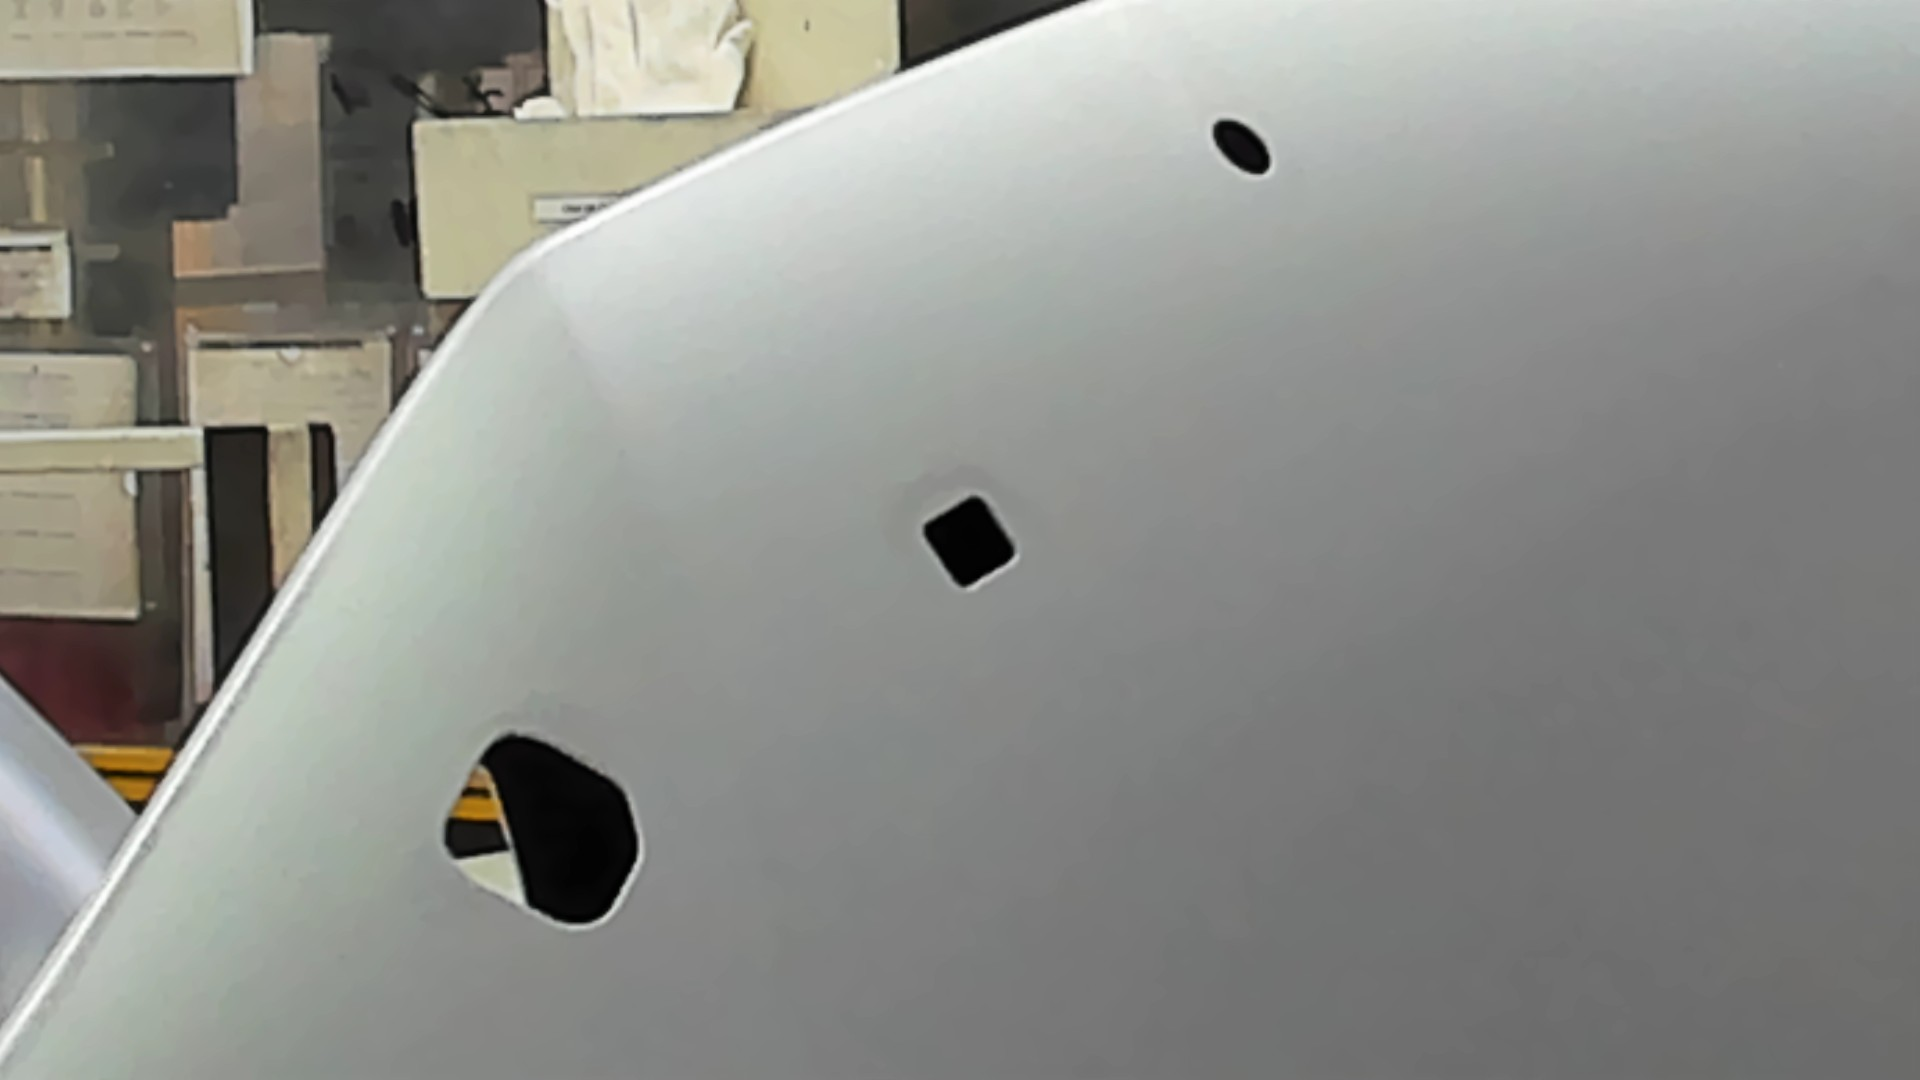chico: (1207, 115, 1276, 178)
grande: (440, 723, 650, 939)
mediano: (913, 489, 1029, 597)
